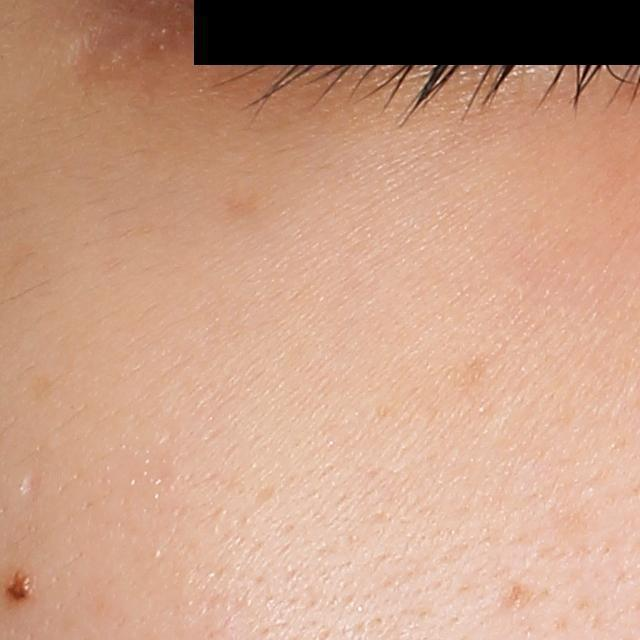melasma: (214, 182, 276, 225)
